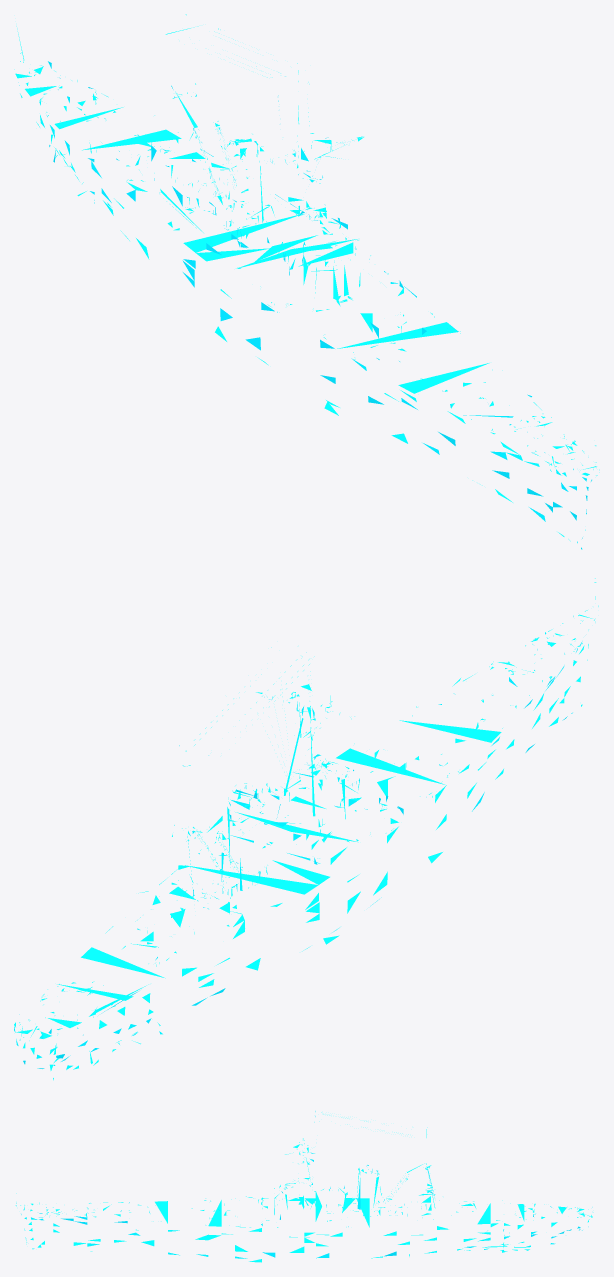
The model's file is BA_Le_Havre.glb.
The picture shows the model from 3 angles, top to bottom: view 1: azimuth 30°, elevation 25°; view 2: azimuth 150°, elevation 25°; view 3: azimuth 270°, elevation 25°; orthographic projection. The views are drawn at different scales.
Bounding box in the file's own units: 1.9 × 3.79 × 14.39.
